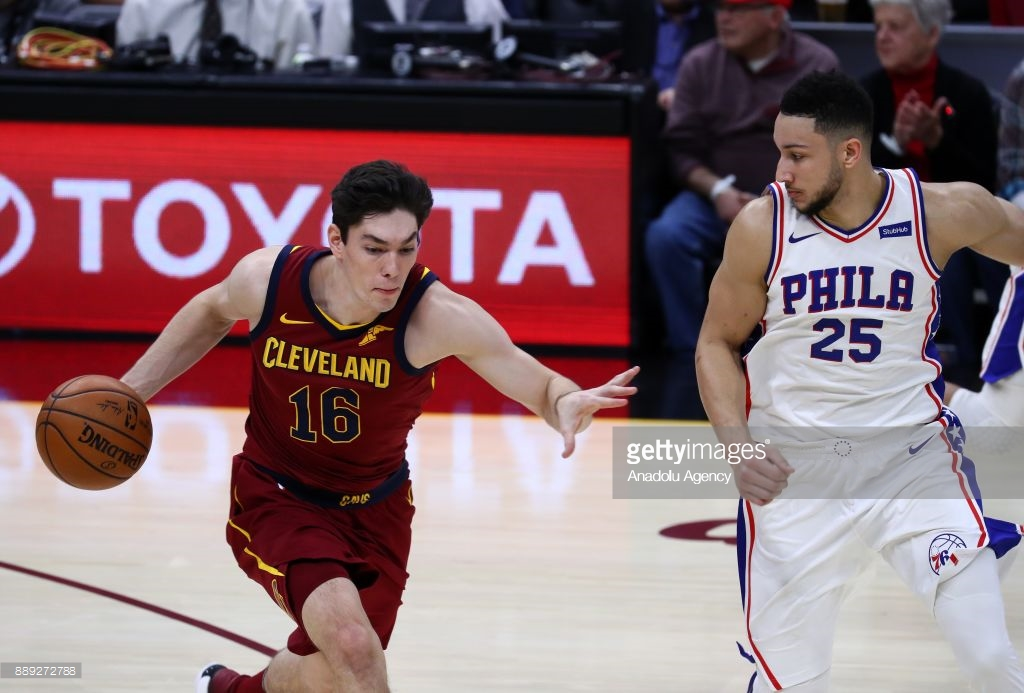ball: (36, 383, 145, 490)
player: (751, 118, 1015, 693), (226, 199, 465, 693)
